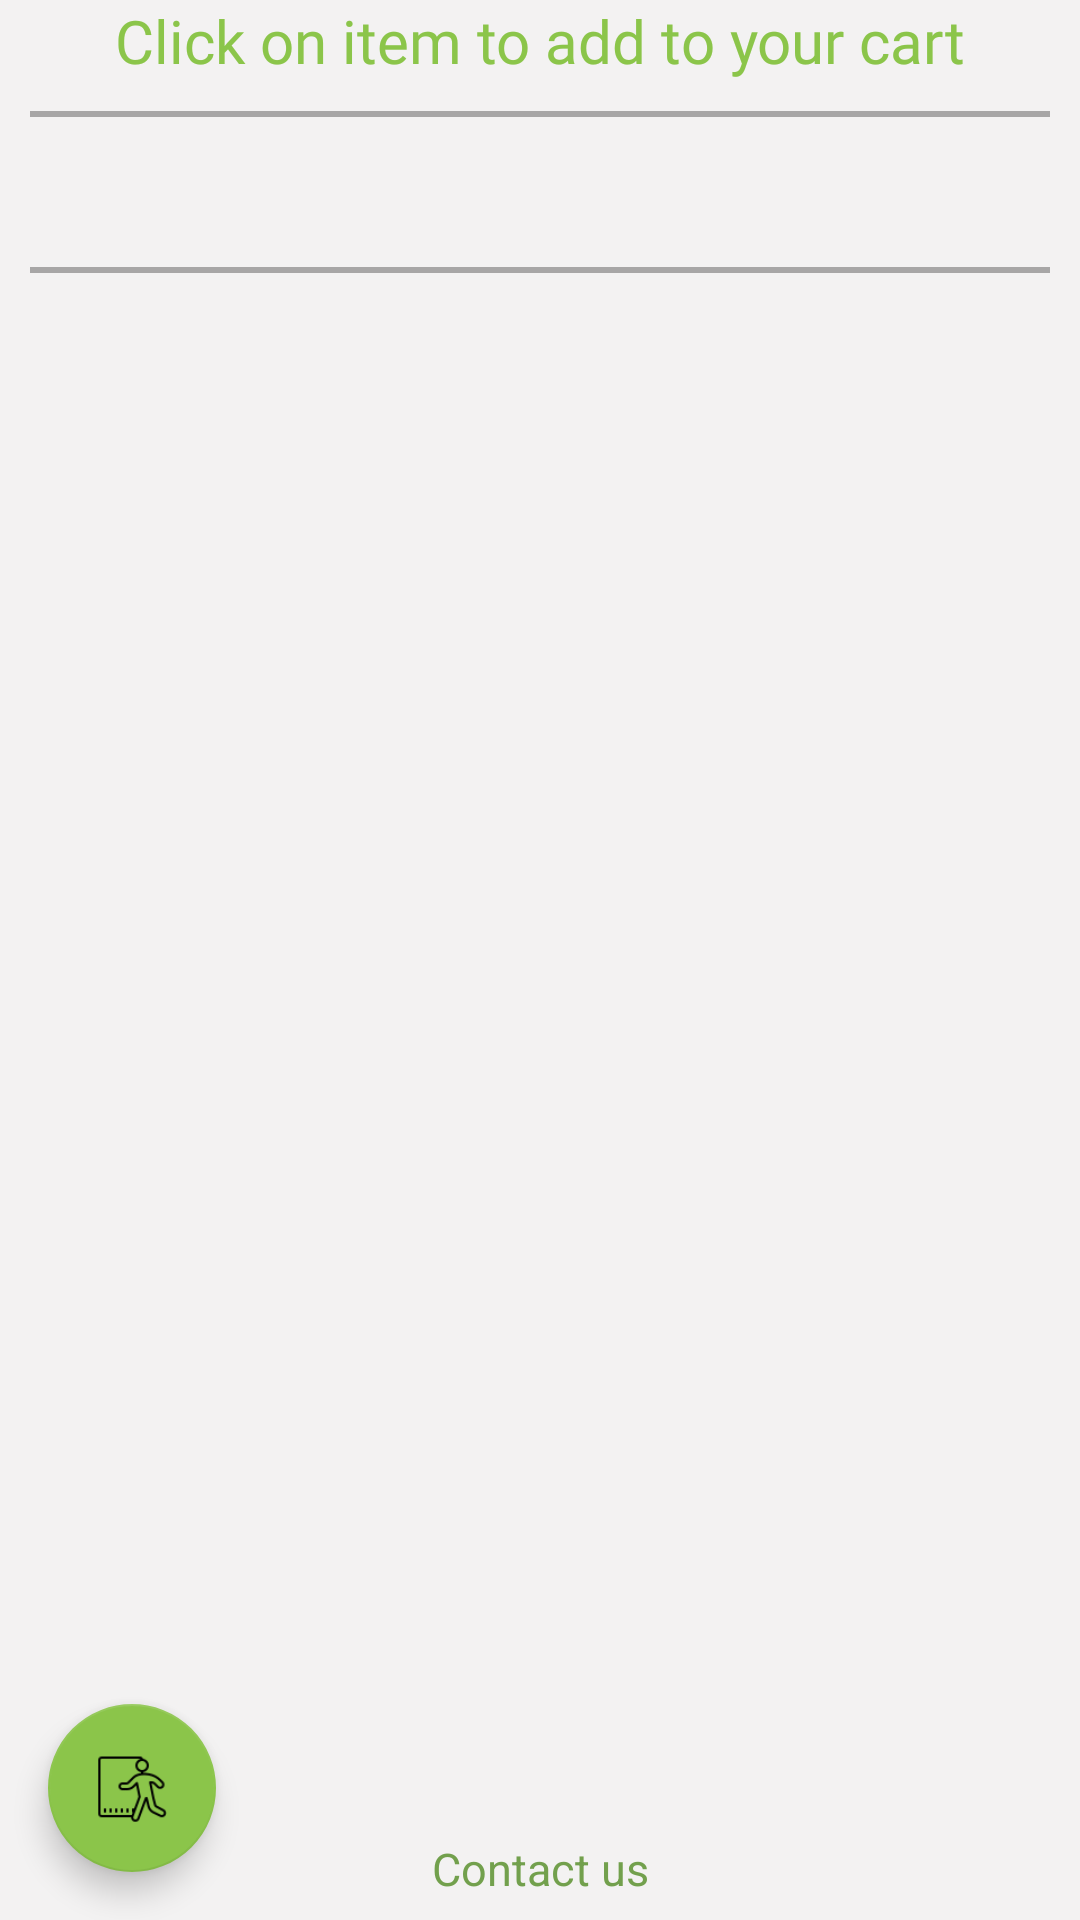

Screen size 1080 x 1920. Icon name, then its box in pixels as (x1, y1, x2, y2):
exit: (48, 1704, 216, 1872)
